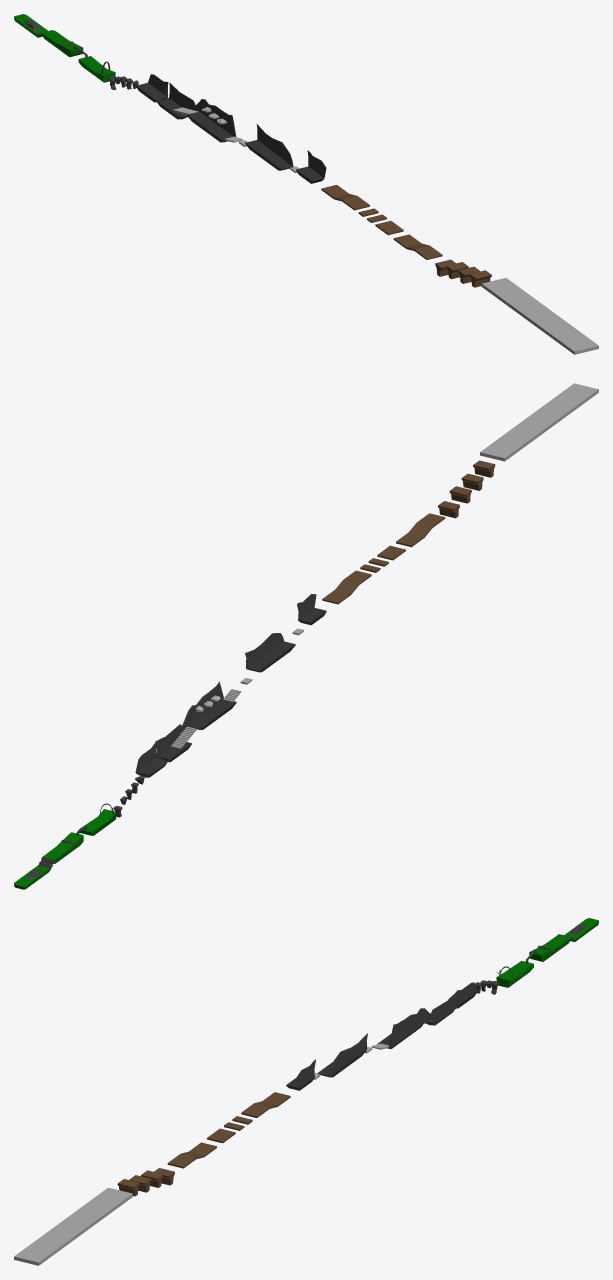
Rendered from Mesh_try_2.fbx.
3 renders of one model, top to bottom at view 1: azimuth 30°, elevation 25°; view 2: azimuth 150°, elevation 25°; view 3: azimuth 330°, elevation 25°, orthographic.
Parts seen in each view (by area): view 1: pCube70; view 2: pCube70; view 3: pCube70.
Part boxes in pixels (bbox=[...]): pCube70: bbox=[14, 14, 598, 354]; pCube70: bbox=[14, 383, 598, 889]; pCube70: bbox=[14, 918, 598, 1265].
Bounding box in the file's own units: 788 × 2499 × 31251.
